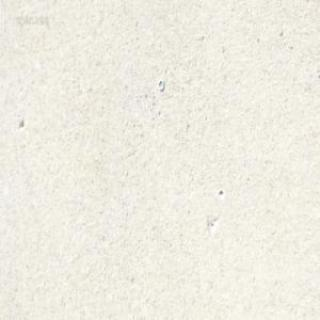Washertrack_idkeyframe: (156, 78, 164, 90)
